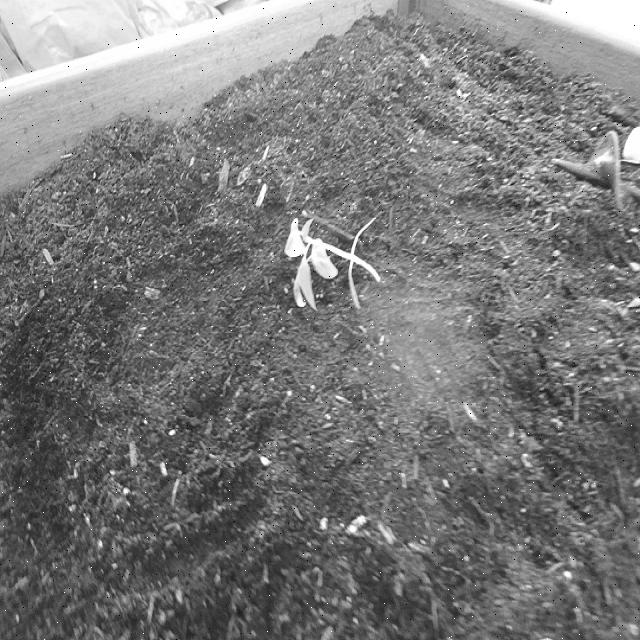Healthy: (283, 207, 387, 318)
